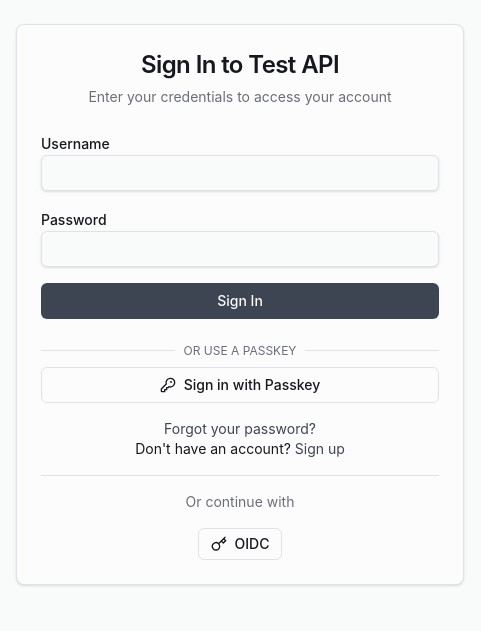
Test: LoginPage › shows the localized OAuth state error when state acquisition fails without a message
The width and height of the screenshot is (481, 631).
Click the button "OIDC" at (240, 544), box [198, 528, 282, 560]
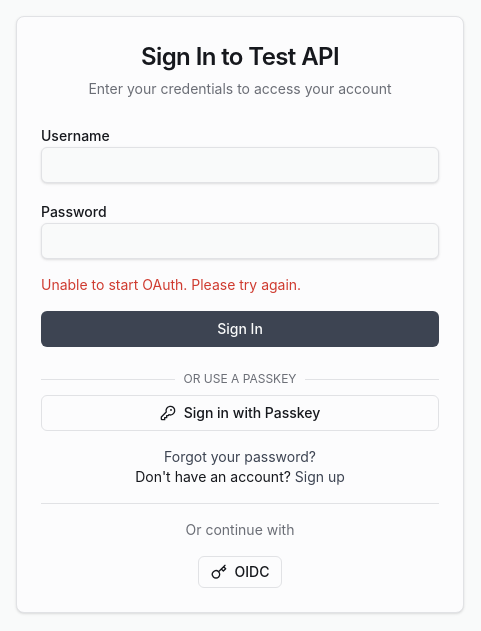
Expected: the text "Unable to start OAuth. Please try again." is shown, [41, 276, 301, 293]
